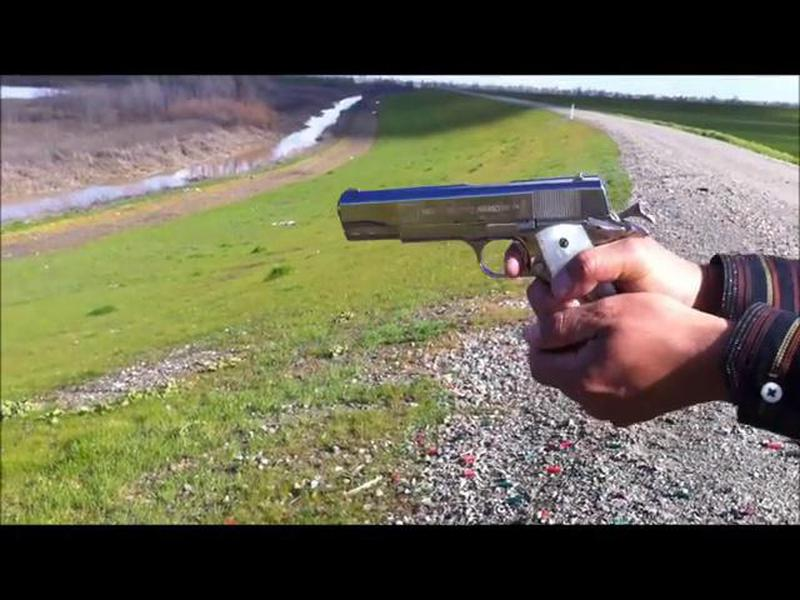Pistola: (317, 149, 658, 330)
